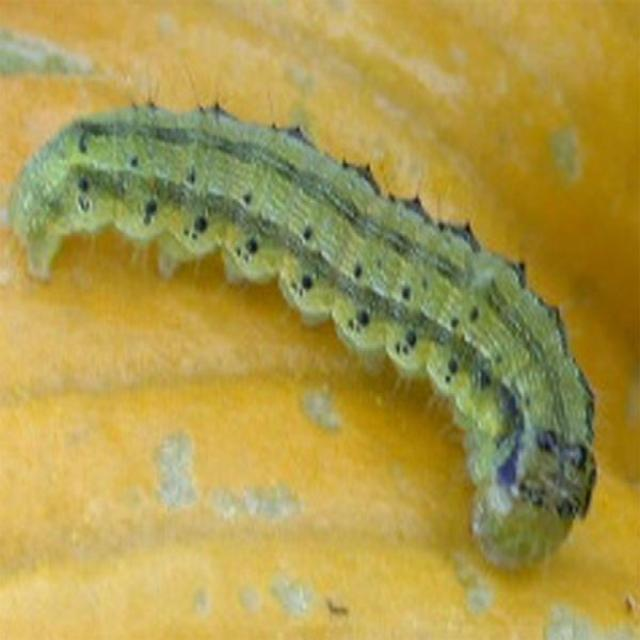Corn-earworm: (18, 98, 596, 576)
